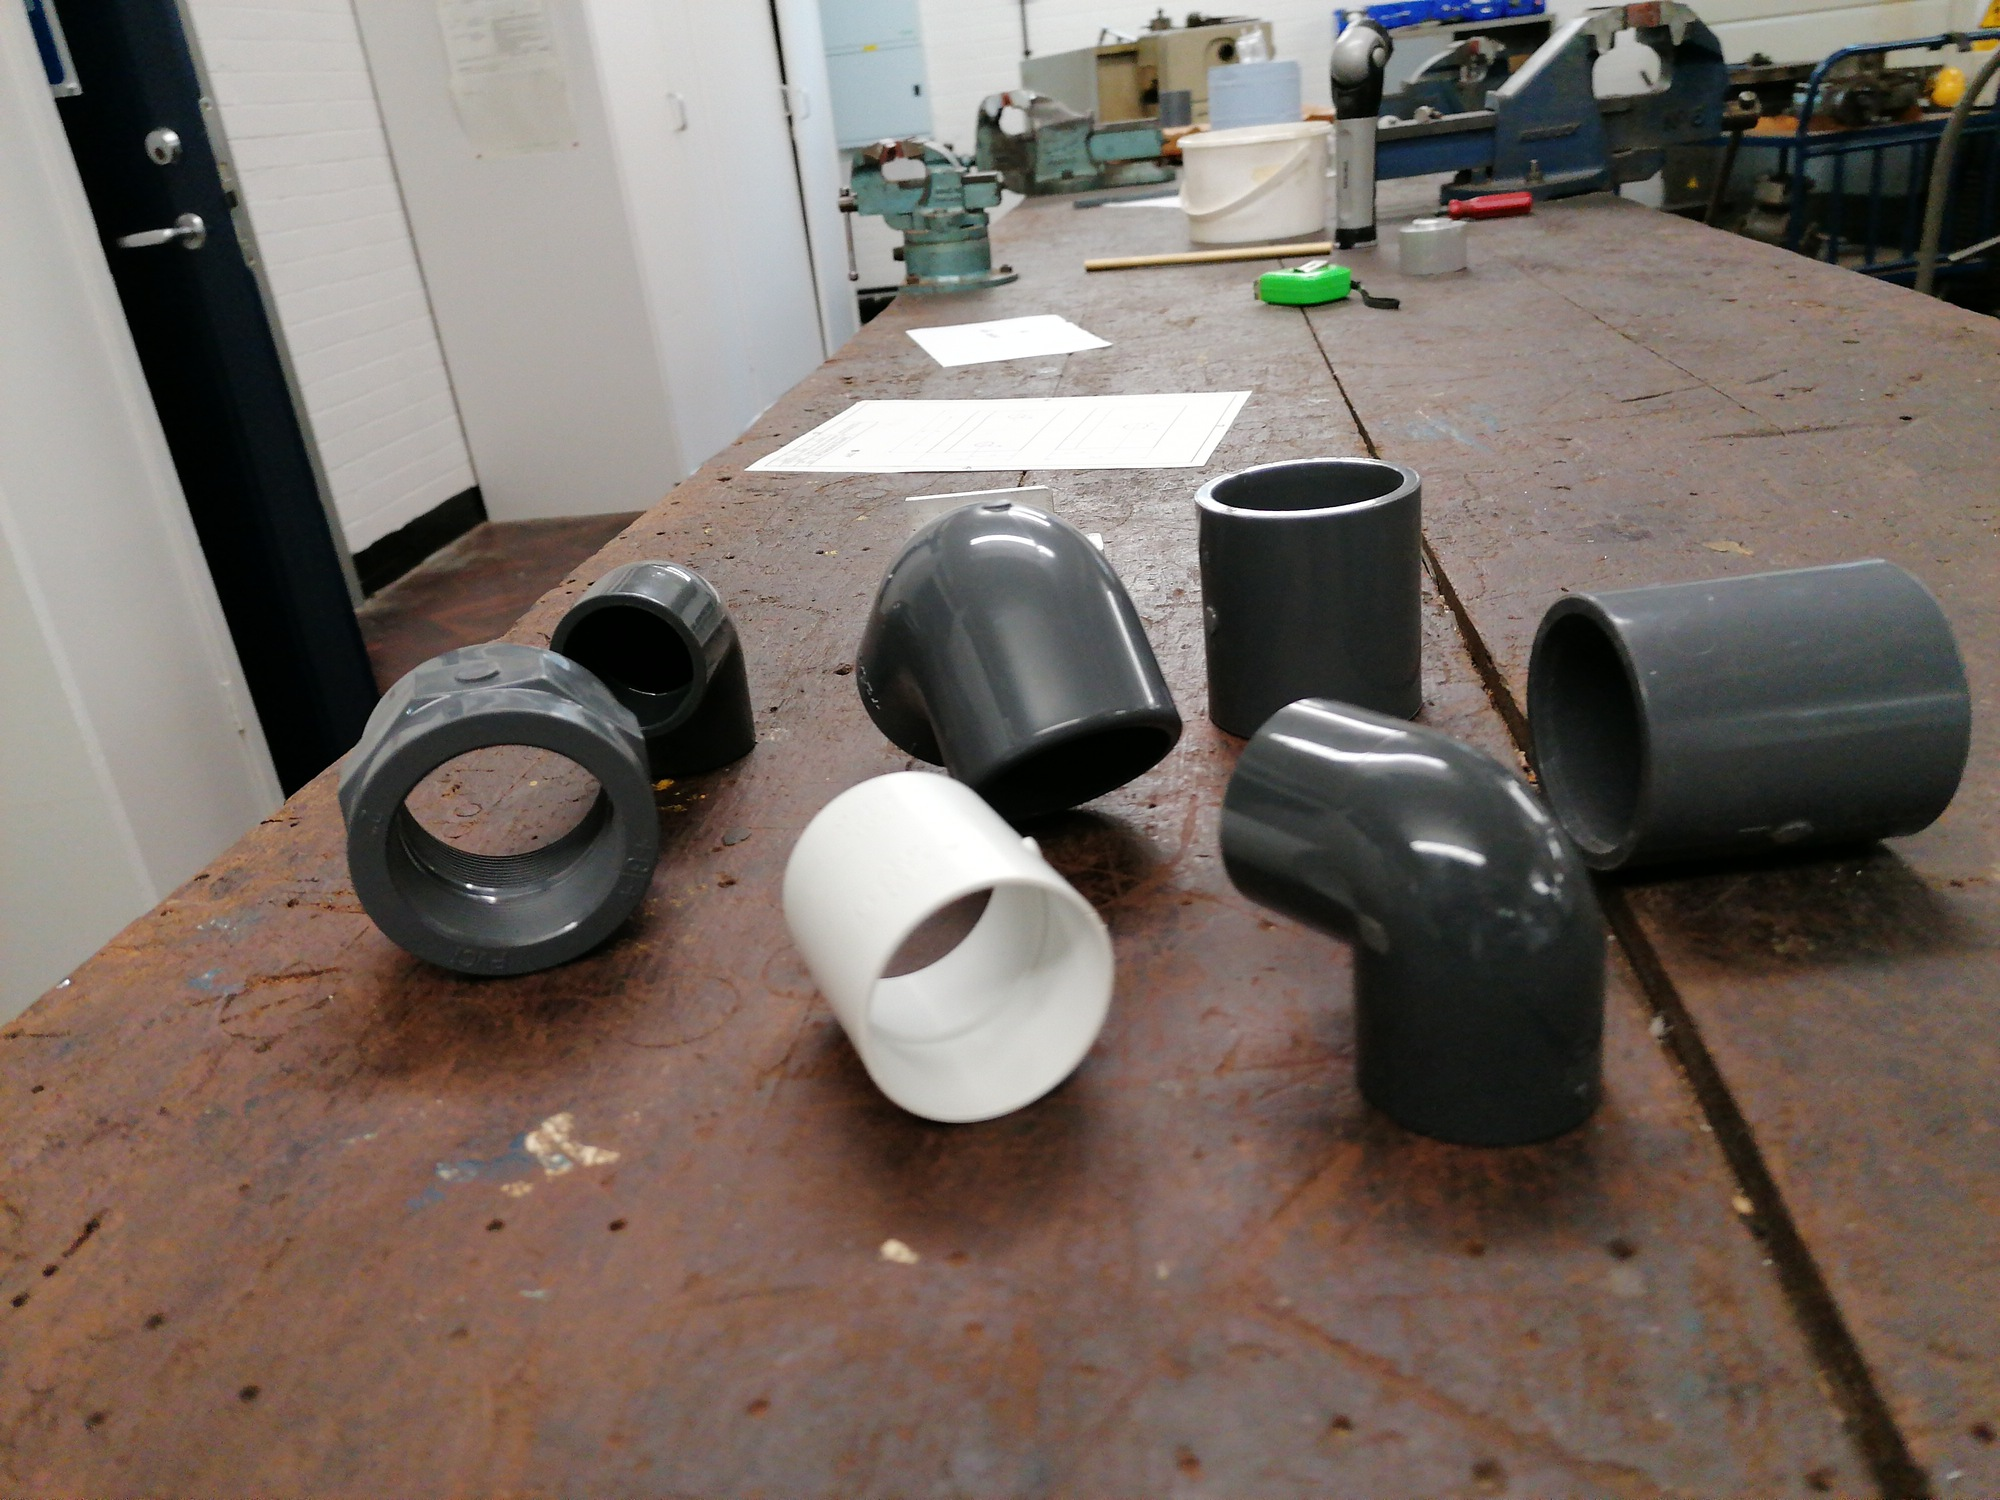nut: (332, 643, 665, 978)
pipe: (1216, 696, 1614, 1152), (1518, 555, 1973, 881), (778, 766, 1121, 1128), (854, 499, 1186, 822), (1192, 455, 1428, 742), (542, 559, 762, 777)
